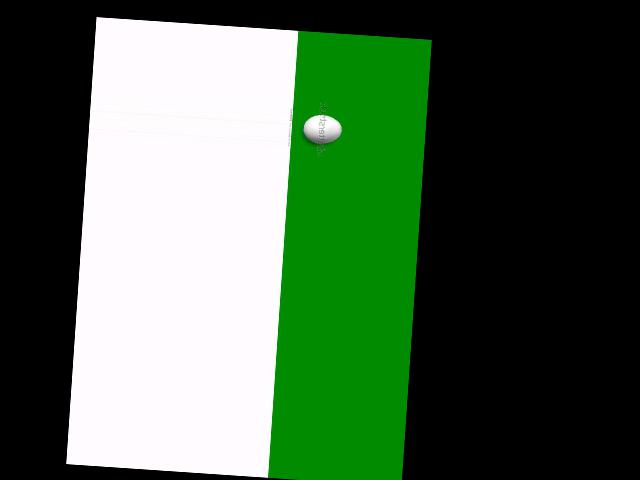egg: (302, 113, 342, 144)
